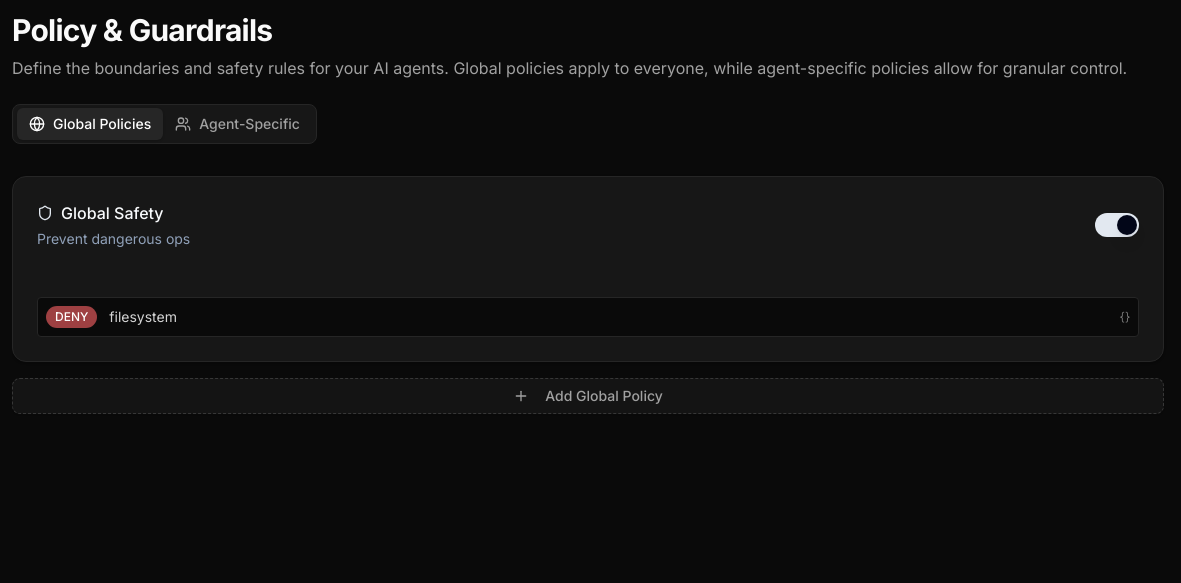
Test: PolicyPage › Interactions › should select agent and show specific policies
The width and height of the screenshot is (1181, 583).
Click the tab "Agent-Specific" at (238, 124), box top-left (163, 108), bottom-right (312, 140)
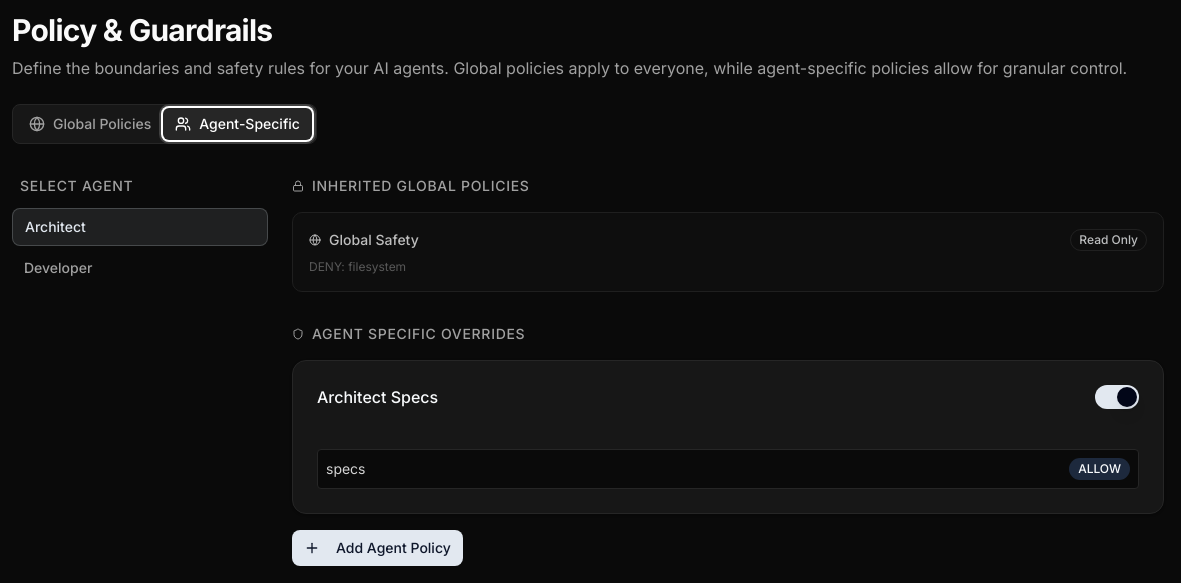
Expected: the text "Architect Specs" is shown, top-left (317, 385), bottom-right (438, 409)
// Click Developer in sidebar
Click the button "Developer" at (140, 268), box top-left (12, 250), bottom-right (268, 286)
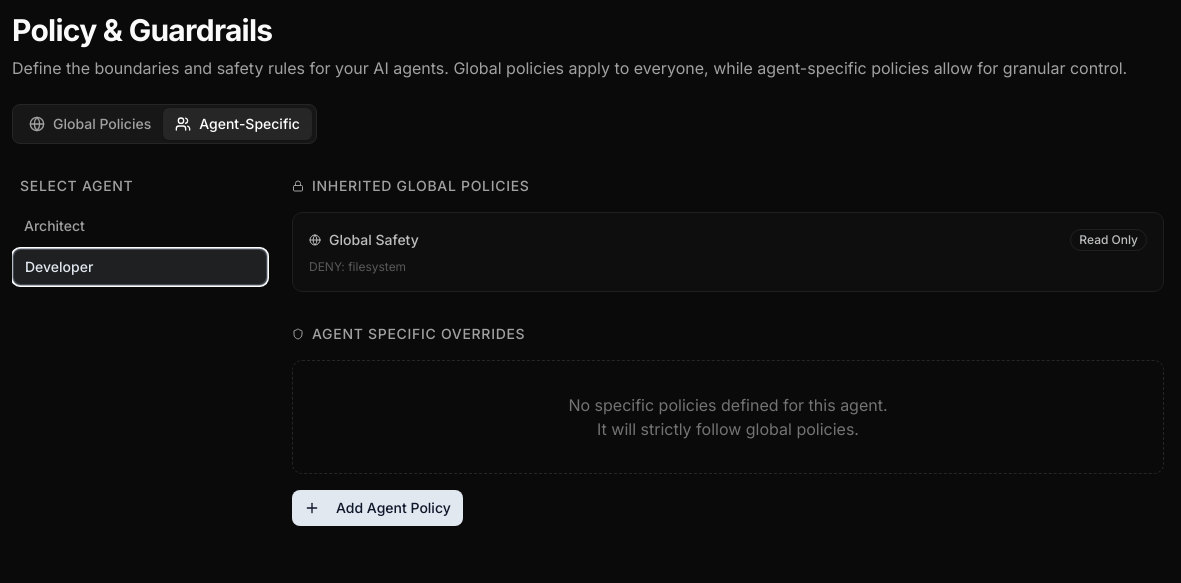
Expected: the text "No specific policies defined" is shown, top-left (568, 395), bottom-right (888, 415)
Expected: the text "Architect Specs" is gone
